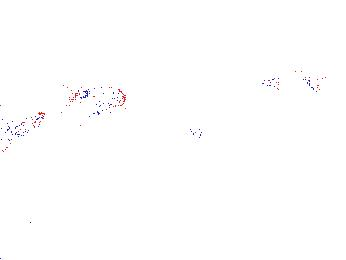glassfish: (181, 118, 269, 175), (1, 89, 87, 143)
redtail glassfish: (251, 68, 324, 95), (75, 82, 128, 110)
